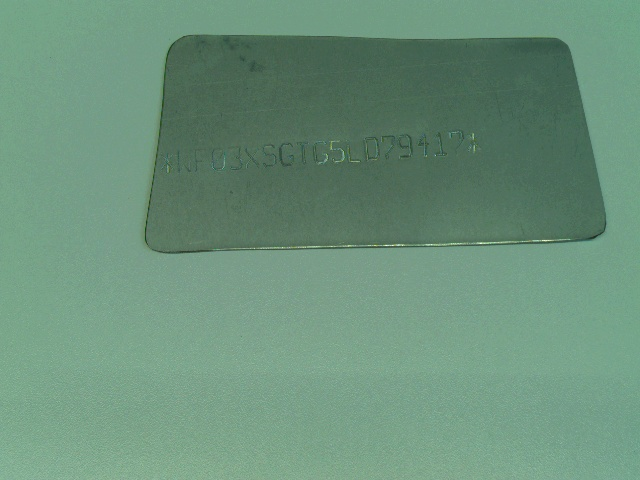0: (209, 145, 227, 172)
1: (432, 132, 448, 158)
3: (228, 145, 244, 171)
4: (417, 132, 430, 159)
5: (329, 137, 346, 165)
7: (448, 129, 466, 158), (379, 133, 397, 160)
9: (397, 132, 414, 159)
d: (362, 136, 380, 161)
f: (194, 146, 207, 174)
g: (311, 139, 329, 163), (278, 142, 295, 166)
l: (345, 140, 361, 164)
s: (260, 143, 277, 169)
t: (296, 140, 310, 164)
w: (175, 148, 194, 173)
x: (244, 145, 261, 168)
